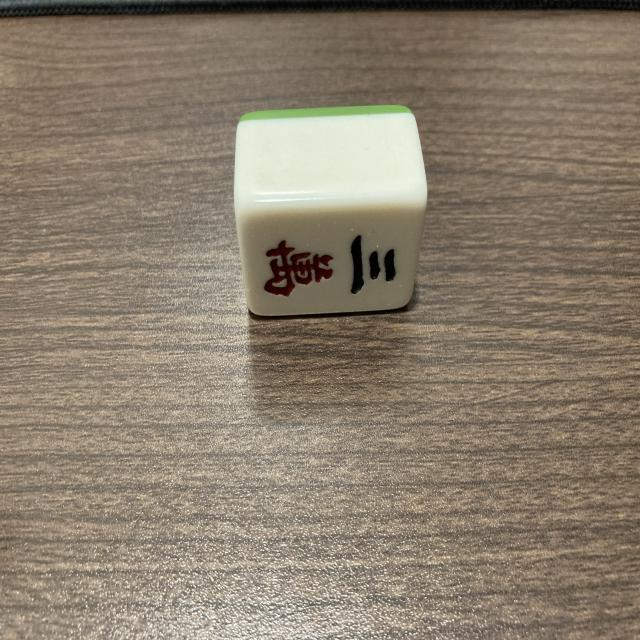m3: (234, 187, 415, 313)
